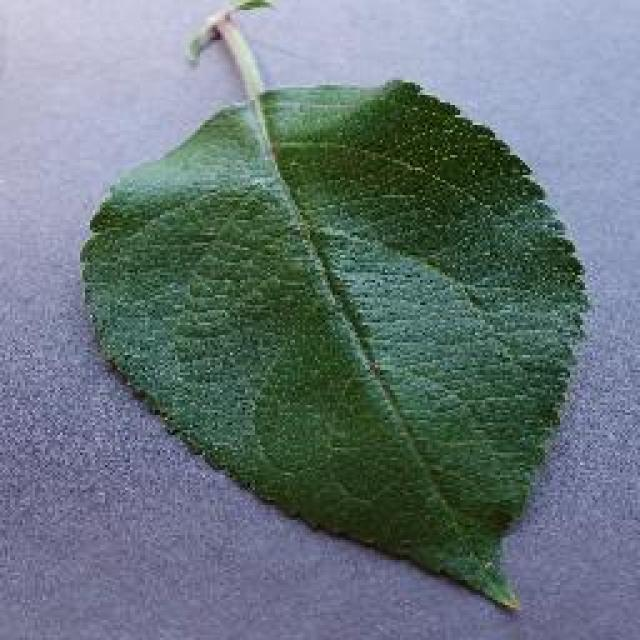apple healthy: (75, 0, 592, 612)
